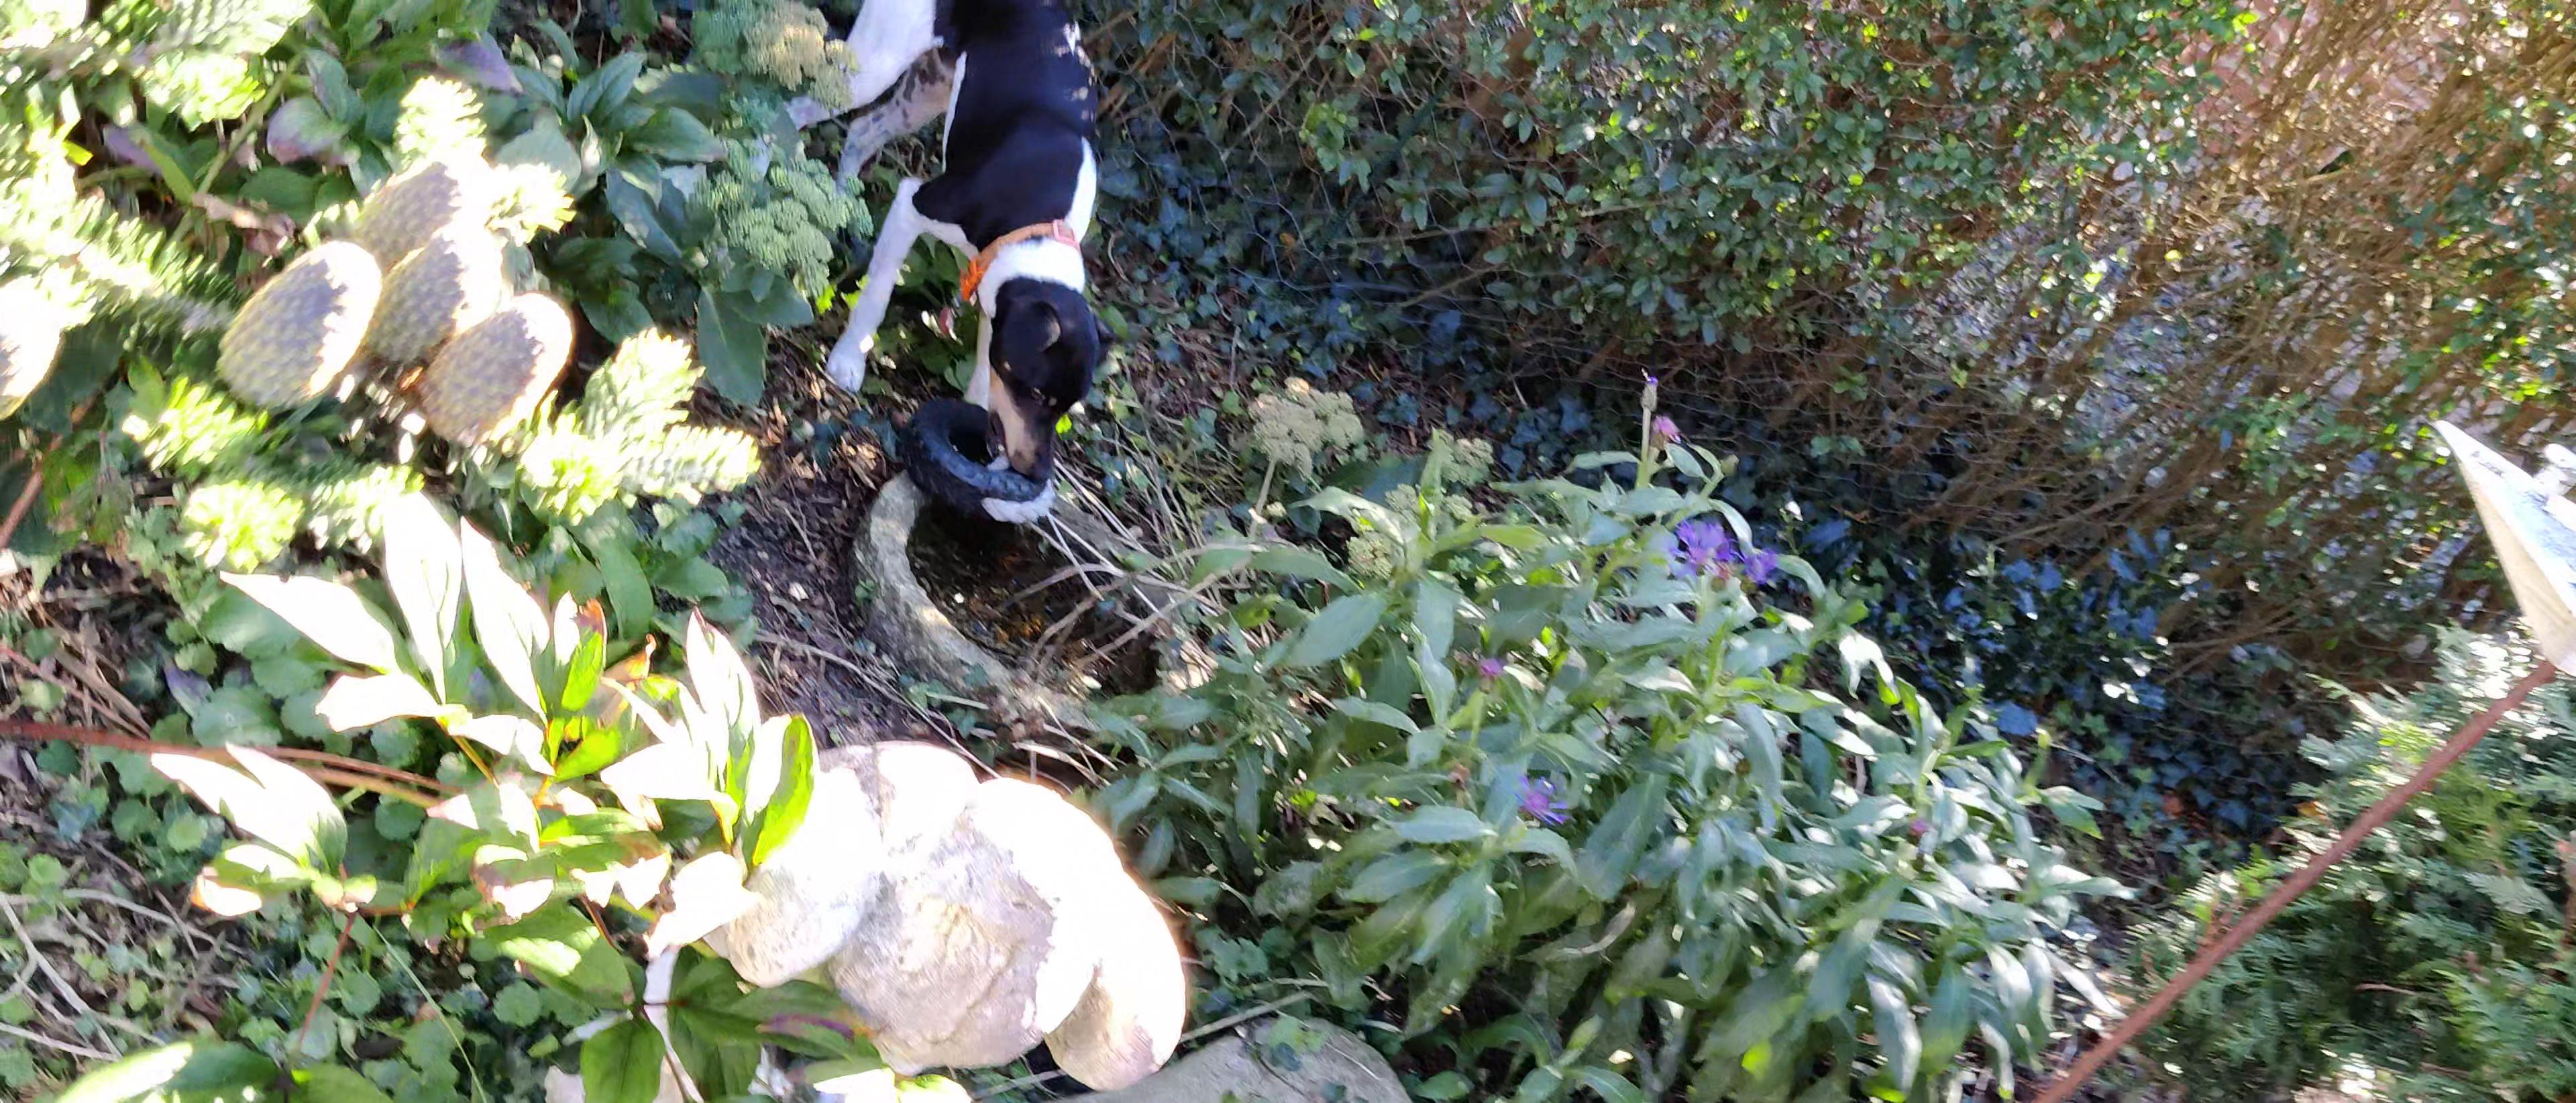Dog: (747, 0, 1120, 488)
